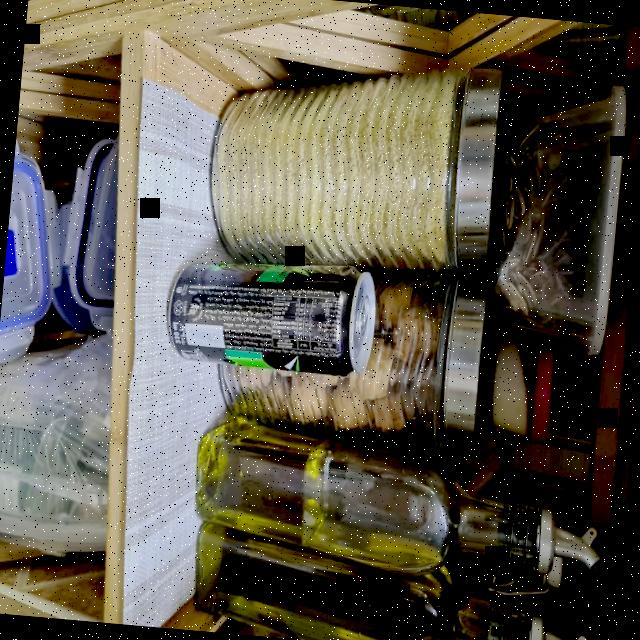can: (161, 250, 381, 380)
